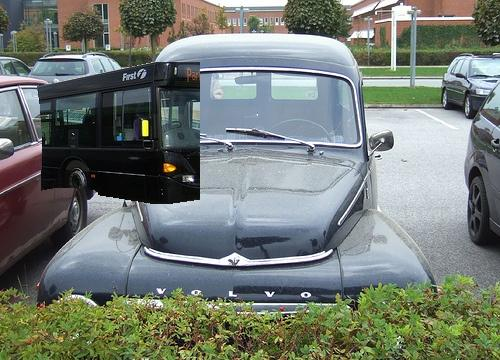tampered: (38, 63, 200, 204)
